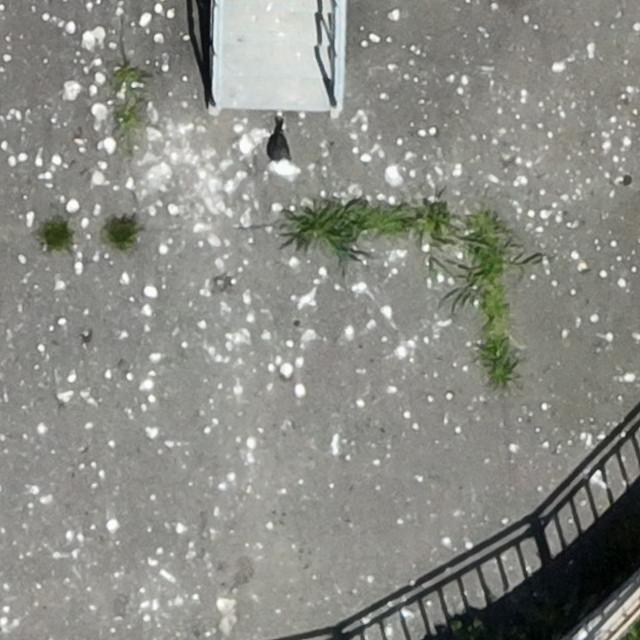umineko: (268, 120, 296, 180)
